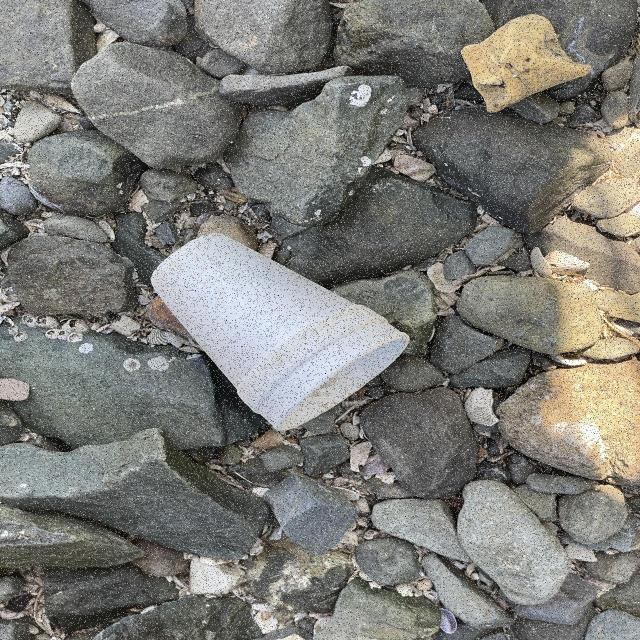styrofoam_waste: (150, 232, 413, 434)
